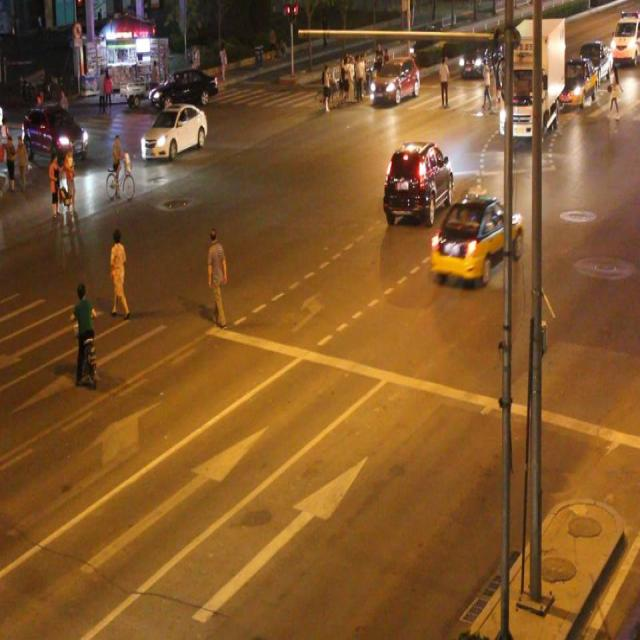bus: (497, 17, 565, 141)
car: (431, 195, 520, 287), (383, 140, 452, 224), (22, 107, 90, 168), (140, 104, 207, 160), (148, 68, 217, 109), (367, 54, 419, 105)
